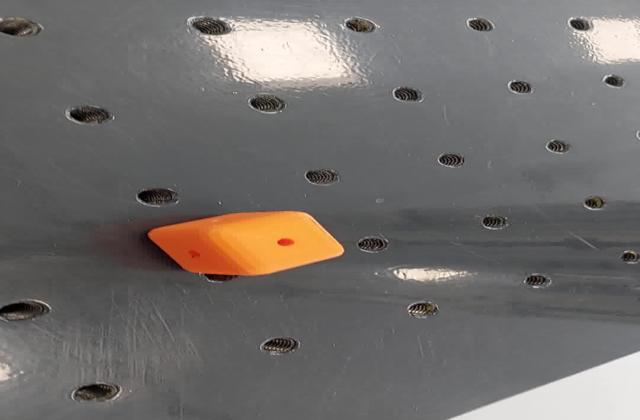cube: (139, 207, 354, 278)
